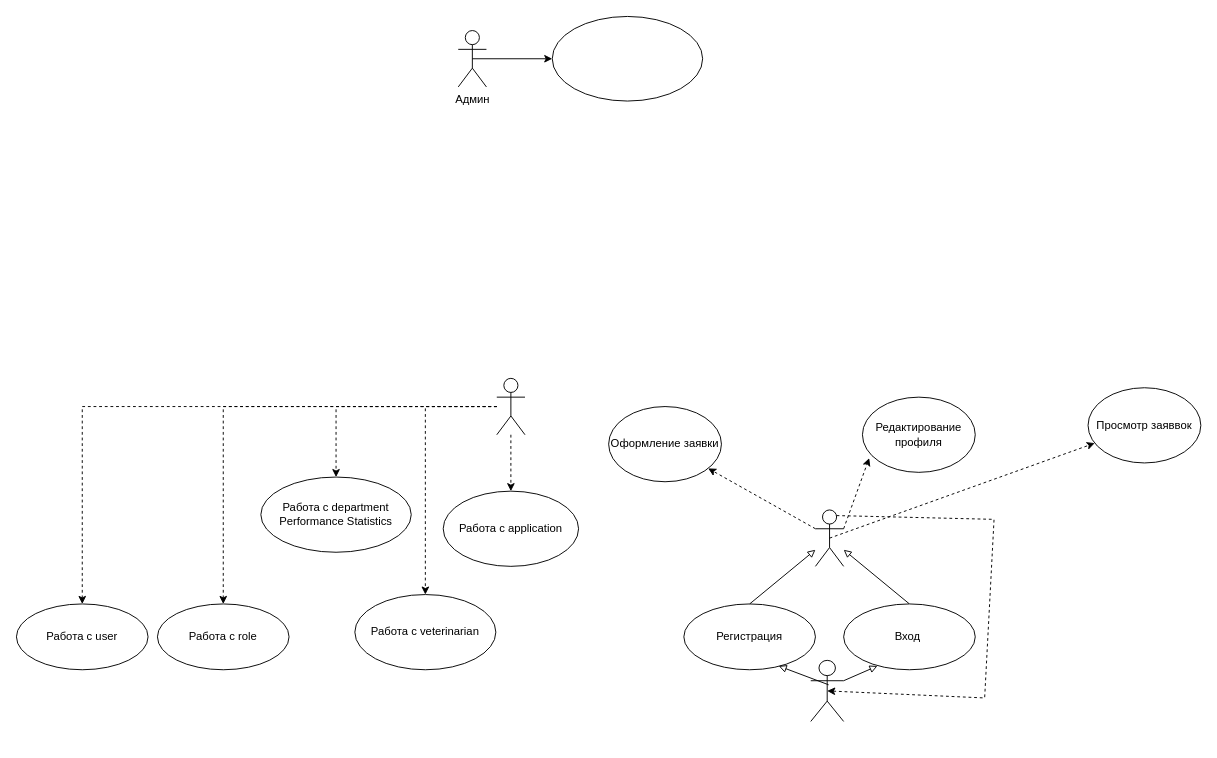
This 1217x758 diagram has some shape labels left out. The shapes that lost their labels are listed below. From the top down, each one's box as (x1, y1, x2, y2) in pixels, then its label:
(551, 16, 703, 101): Добавить/Удалить/Просмотреть сотрудника
(496, 377, 525, 435): Сотрудник
(815, 509, 844, 566): Зарегестрированный пользователь
(810, 659, 844, 721): Пользователь
